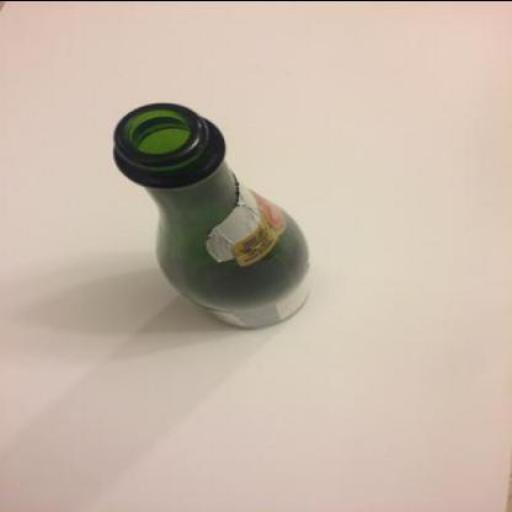glass: (113, 101, 309, 326)
